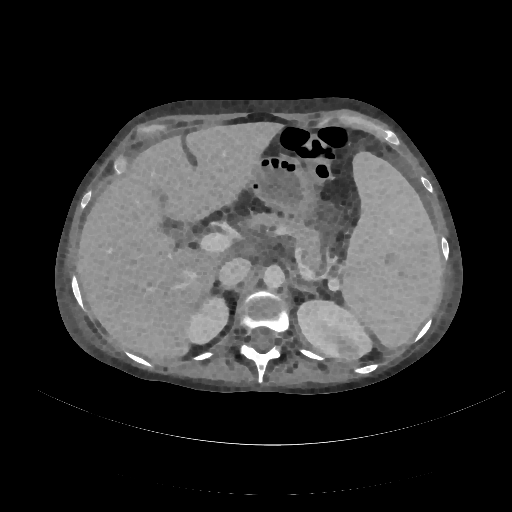Lesion: (336, 336, 361, 366)
